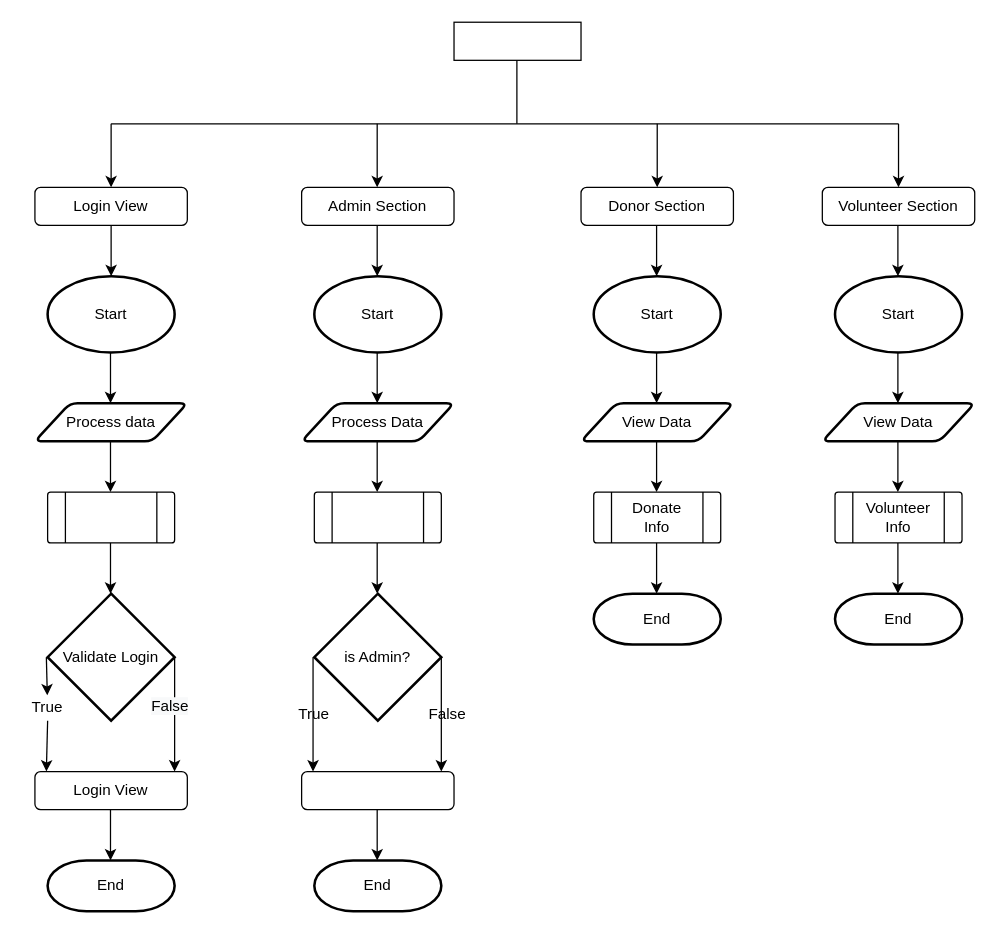
The diagram is 997 pixels wide and 935 high, and some of its shapes have lost their labels. Each missing label, with the centre of its shape:
"Admin Info" goes at (x=377, y=517).
"Login" goes at (x=110, y=517).
"Perform Operation" goes at (x=377, y=790).
"USER" goes at (x=517, y=40).
